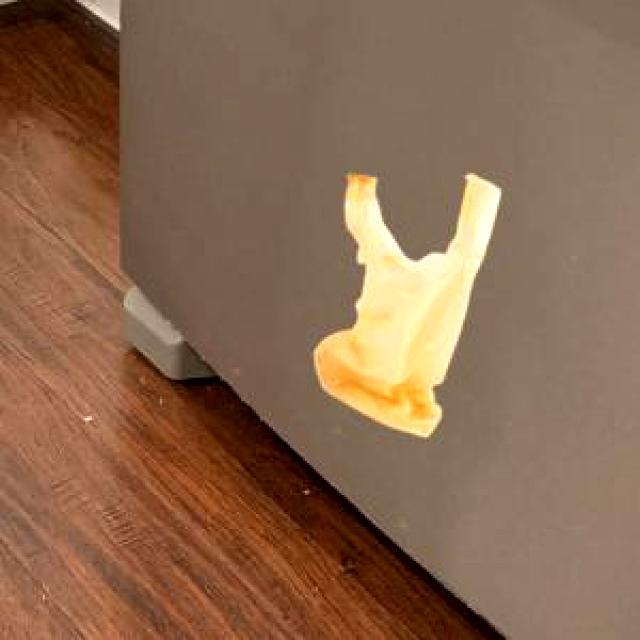Plastic_Bag: (313, 172, 497, 434)
